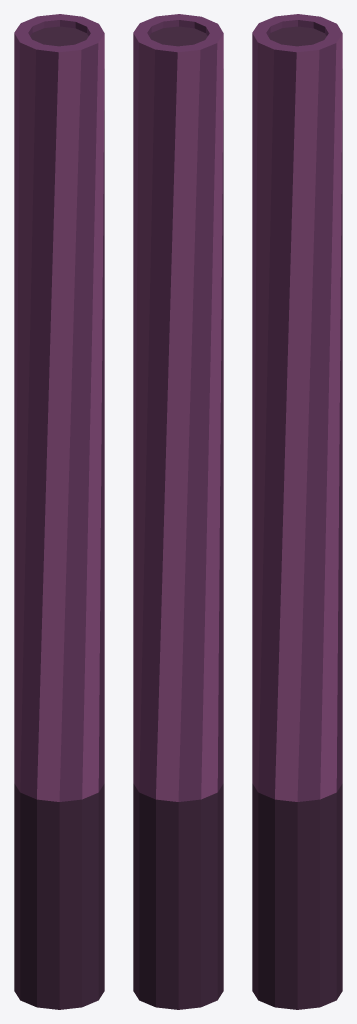
Rendered from Laumania_RomanCandle_Sample01.fbx.
The picture shows the model from 3 angles, left to right: view 1: azimuth 30°, elevation 25°; view 2: azimuth 210°, elevation 25°; view 3: azimuth 330°, elevation 25°; orthographic projection.
Visible parts, largest first — view 1: Laumania_RomanCandle_Sample01; view 2: Laumania_RomanCandle_Sample01; view 3: Laumania_RomanCandle_Sample01.
Boxes of the visible parts, x1,y1,x2,y2 form: Laumania_RomanCandle_Sample01: (14,14,104,1009); Laumania_RomanCandle_Sample01: (133,14,223,1009); Laumania_RomanCandle_Sample01: (252,14,342,1009).
Size of the model in its own units: 0.06 by 0.7 by 0.06.
